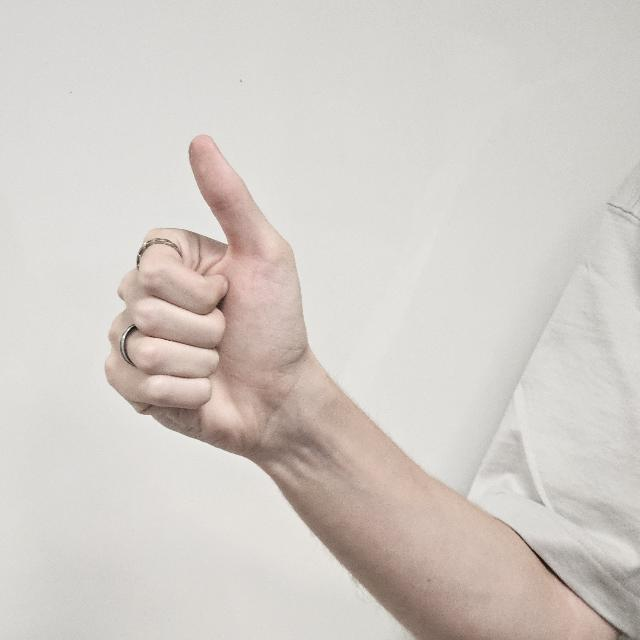Start: (103, 122, 310, 464)
